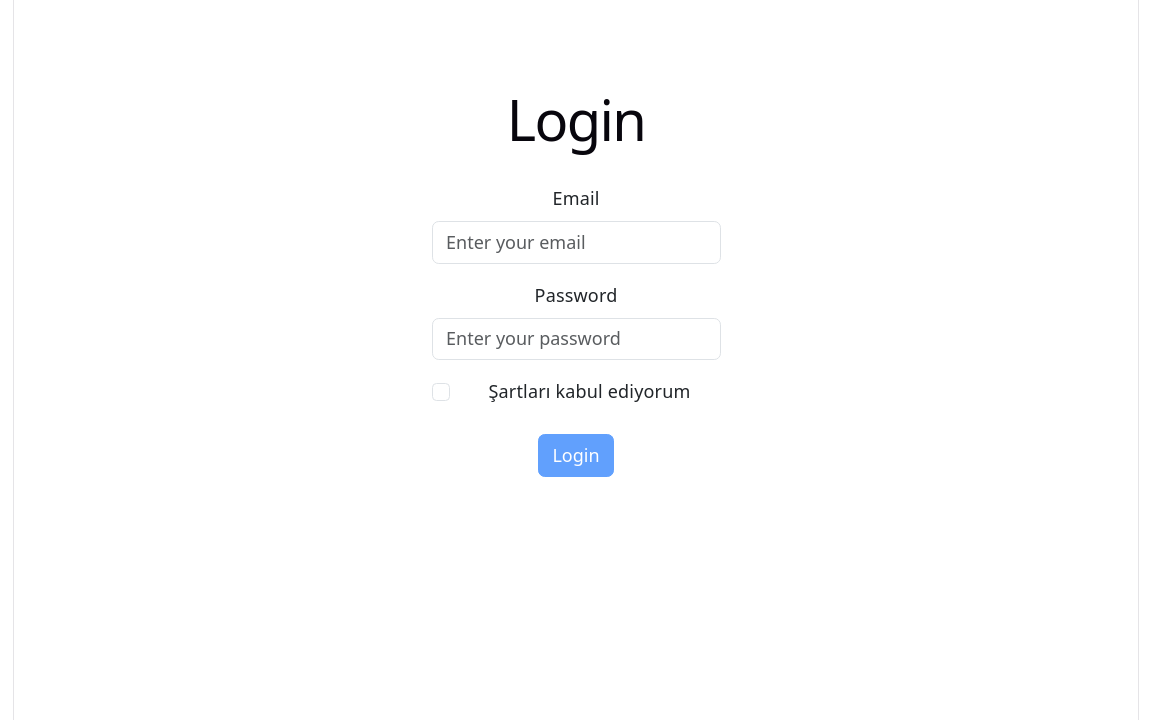
Test: Login formu › başarılı form doldurulduğunda success sayfası açılıyor
Type "erdem.guntay@wit.com.tr" into the field with id "email".
click(577, 243); type("erdem.guntay@wit.com.tr")  # box [432,221,721,264]
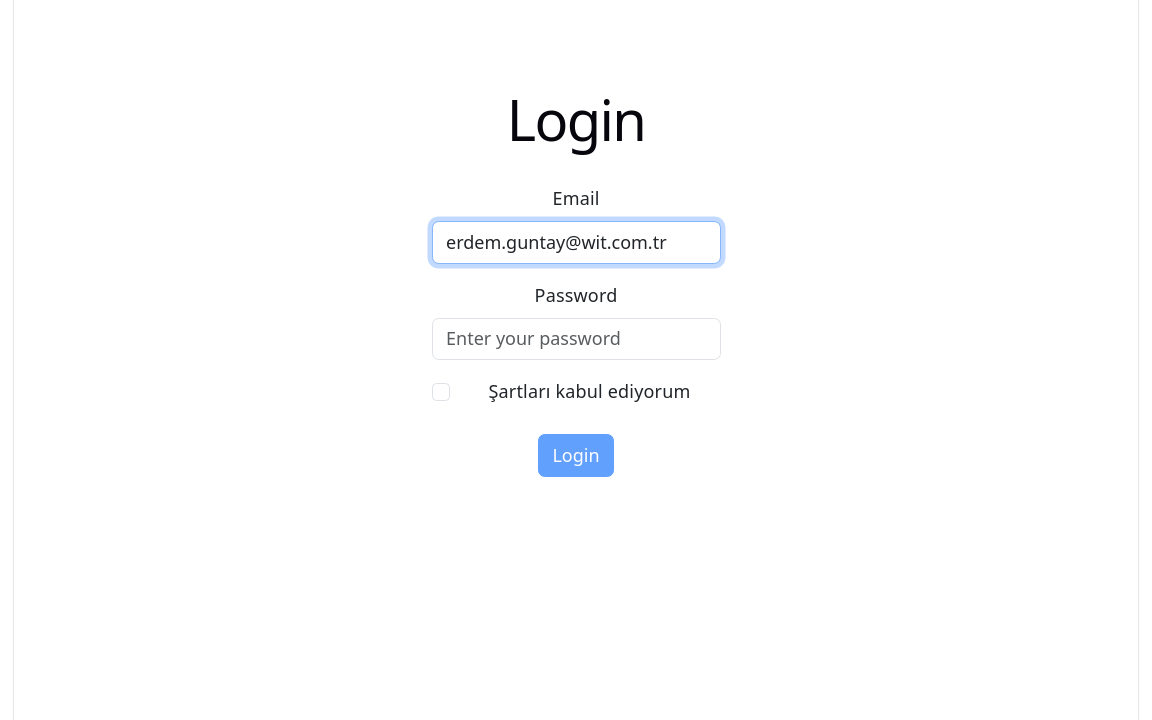
Type "Abcdef1!" into the password field labelled "Password".
click(577, 340); type("Abcdef1!")  # box [432,318,721,361]
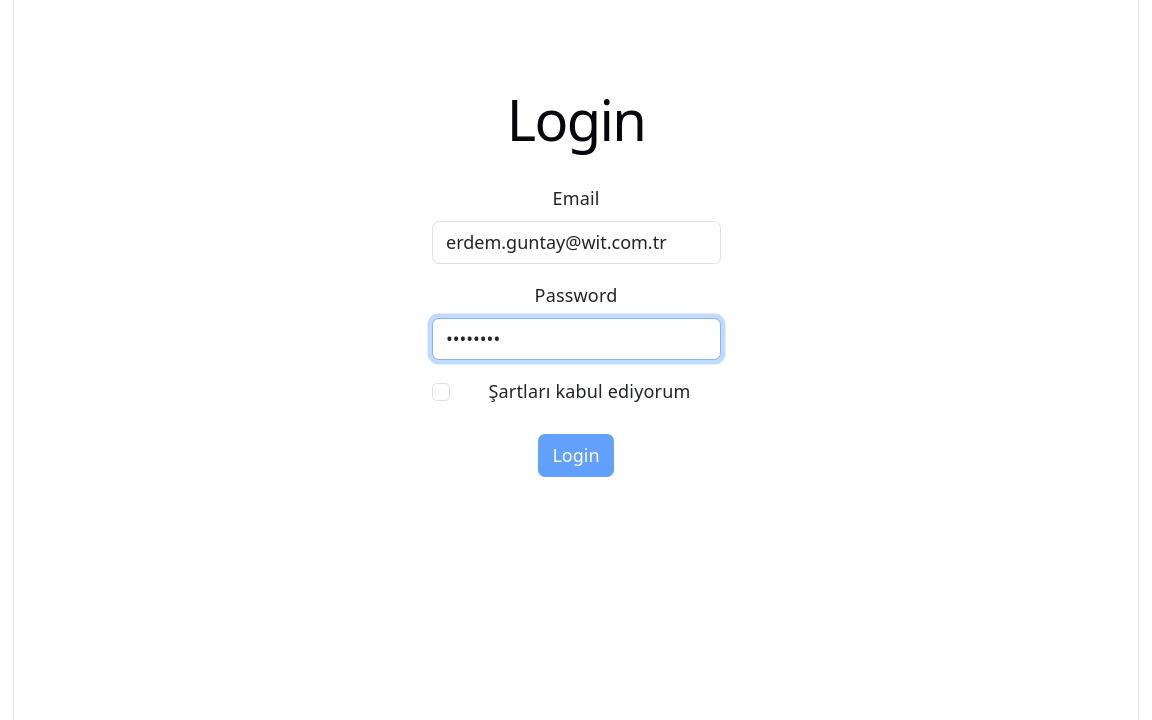
Check the checkbox with id "terms".
click(441, 392)  # box [432,383,450,401]
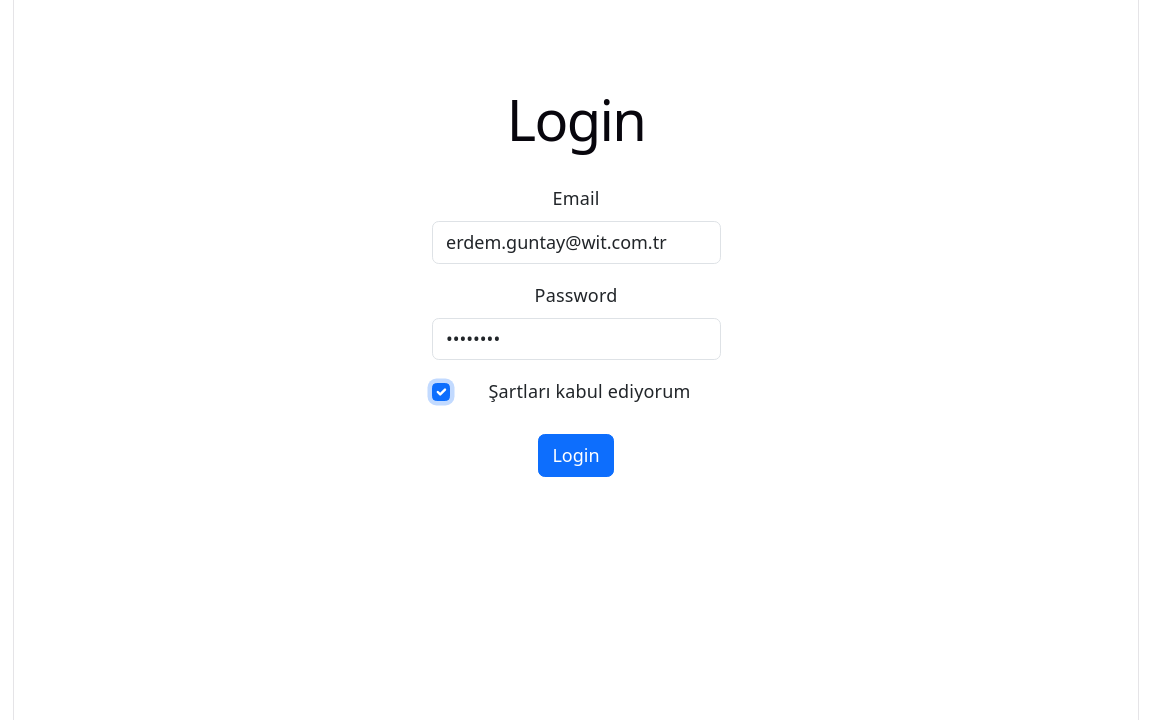
Check: the submit button is enabled
Click the submit button.
click(576, 456)  # box [538,434,614,477]
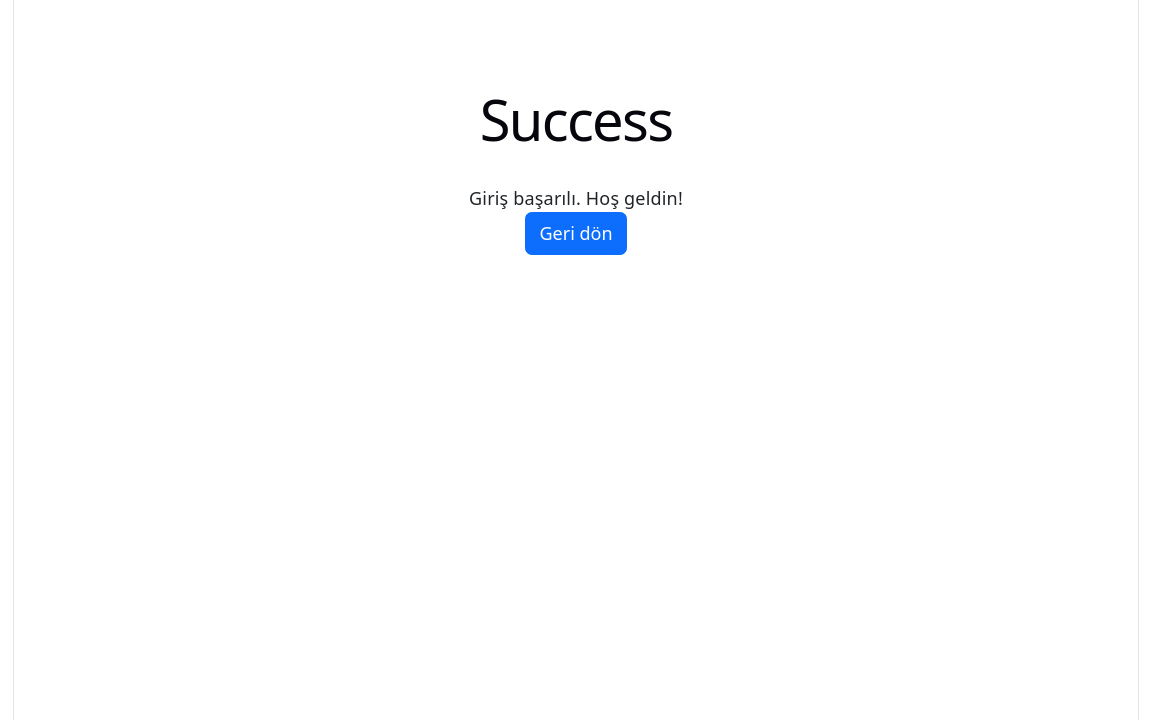
Check: the heading "Success" is shown, box [469,86,683,153]
